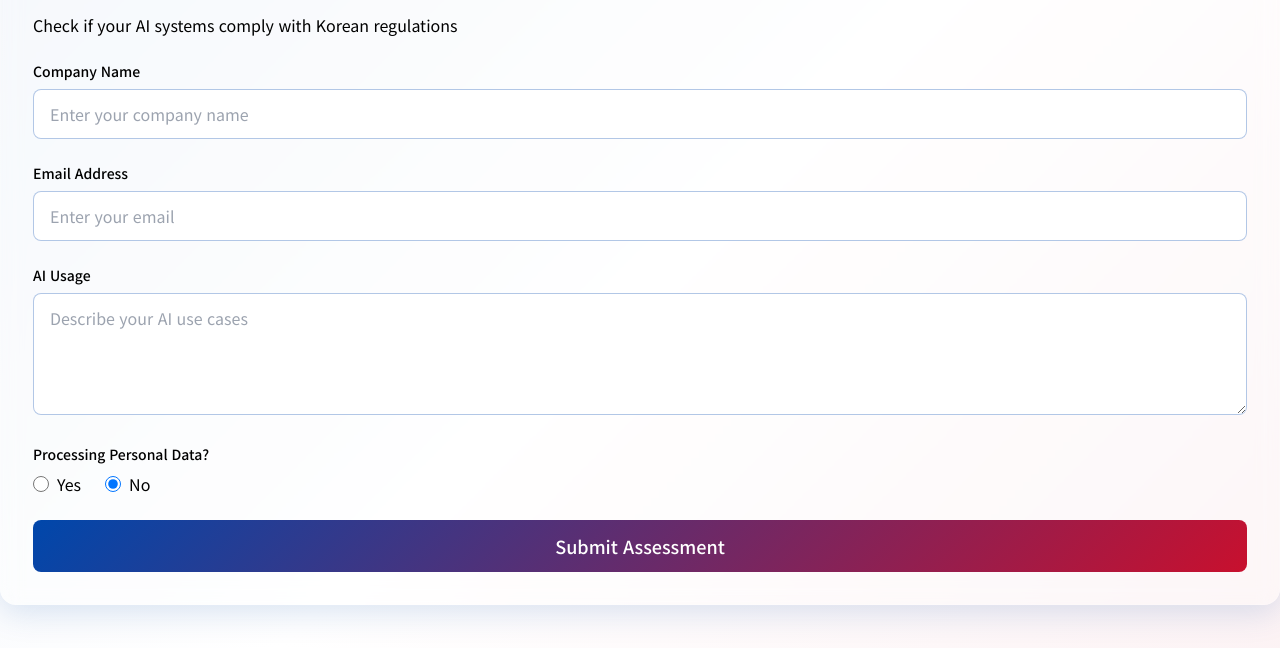
Scenario: RiskAssessment Component › handles form submission error
The width and height of the screenshot is (1280, 648).
In the field labelled "Company Name": (640, 114) [33,89,1247,139], type "Test Company"
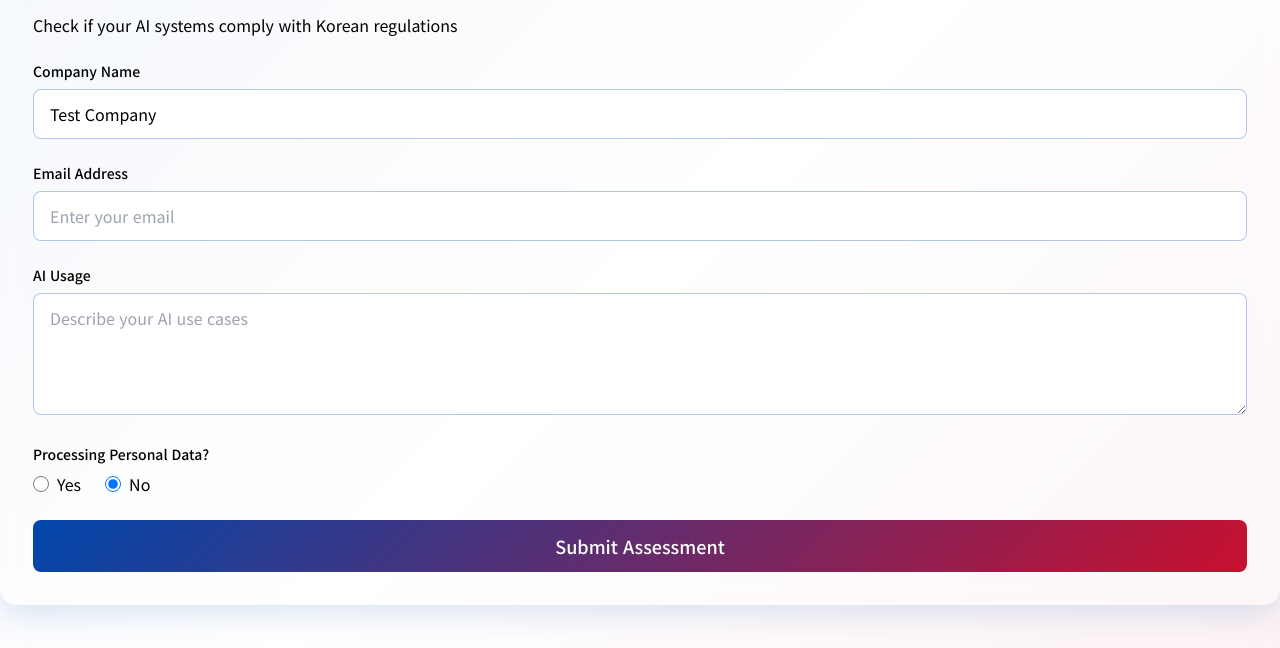
In the field labelled "Email Address": (640, 216) [33,191,1247,241], type "test@example.com"
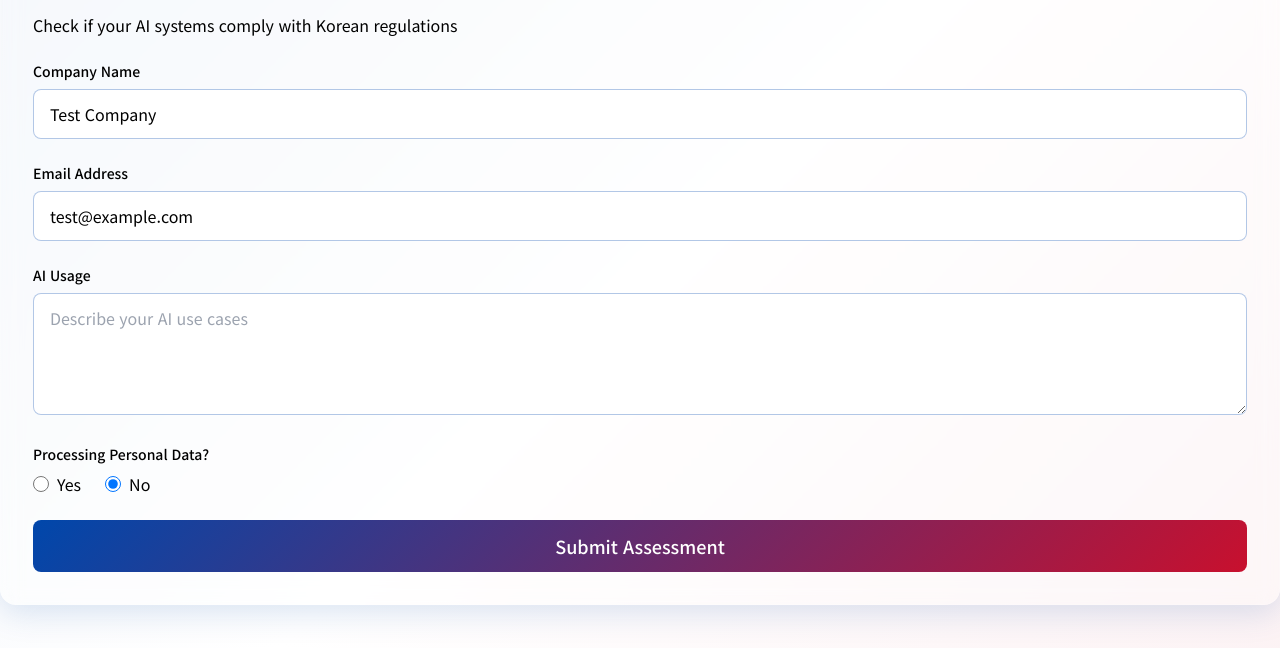
In the text box labelled "AI Usage": (640, 354) [33,293,1247,415], type "Machine learning models"
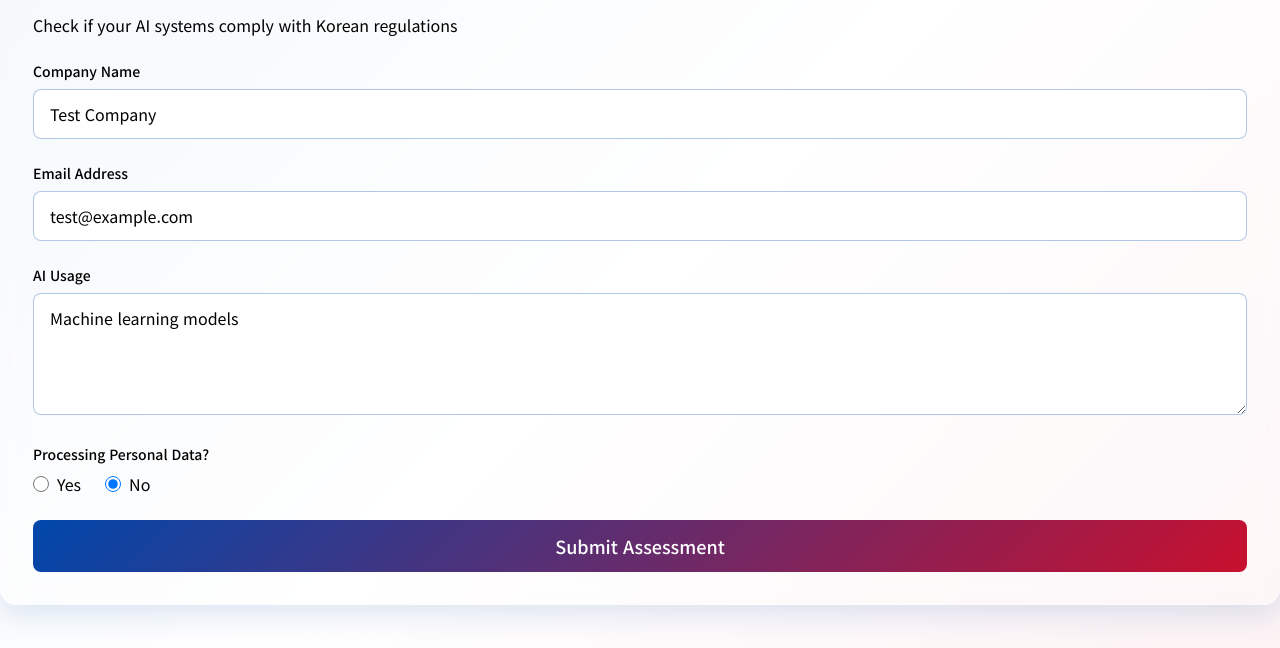
Click the button "Submit Assessment": (640, 546) [33,520,1247,572]
(page scrolled)
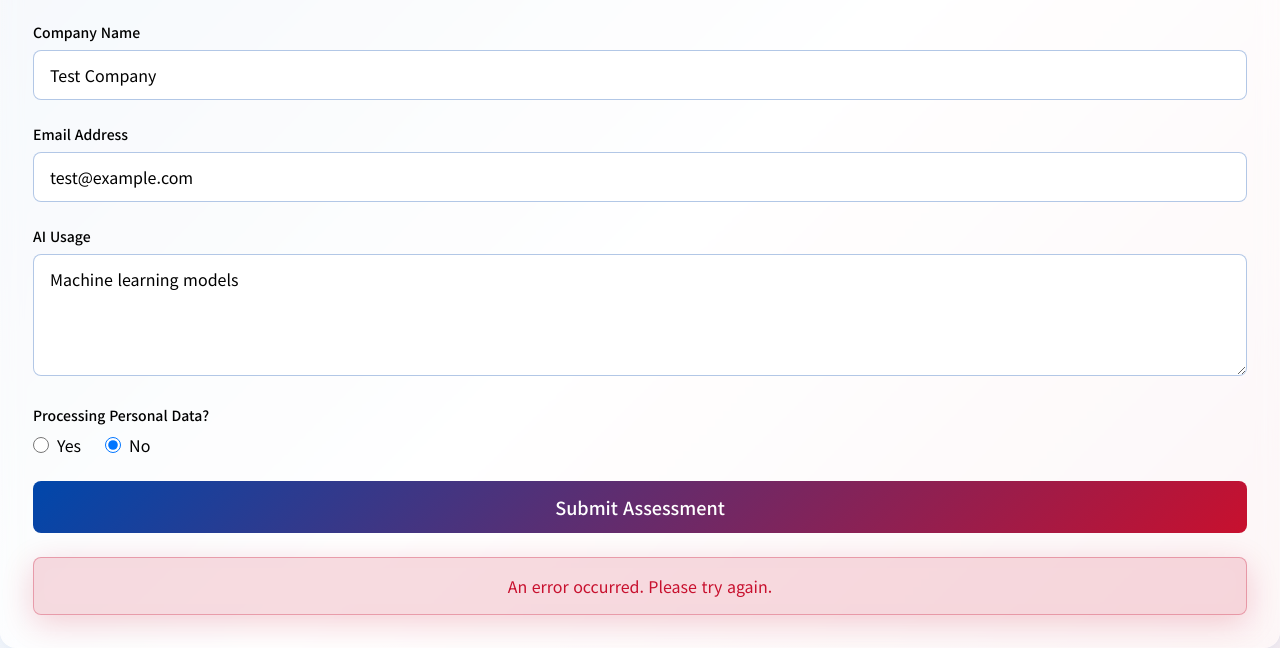
Expected: the text "An error occurred. Please try again." is shown, [33,557,1247,615]
